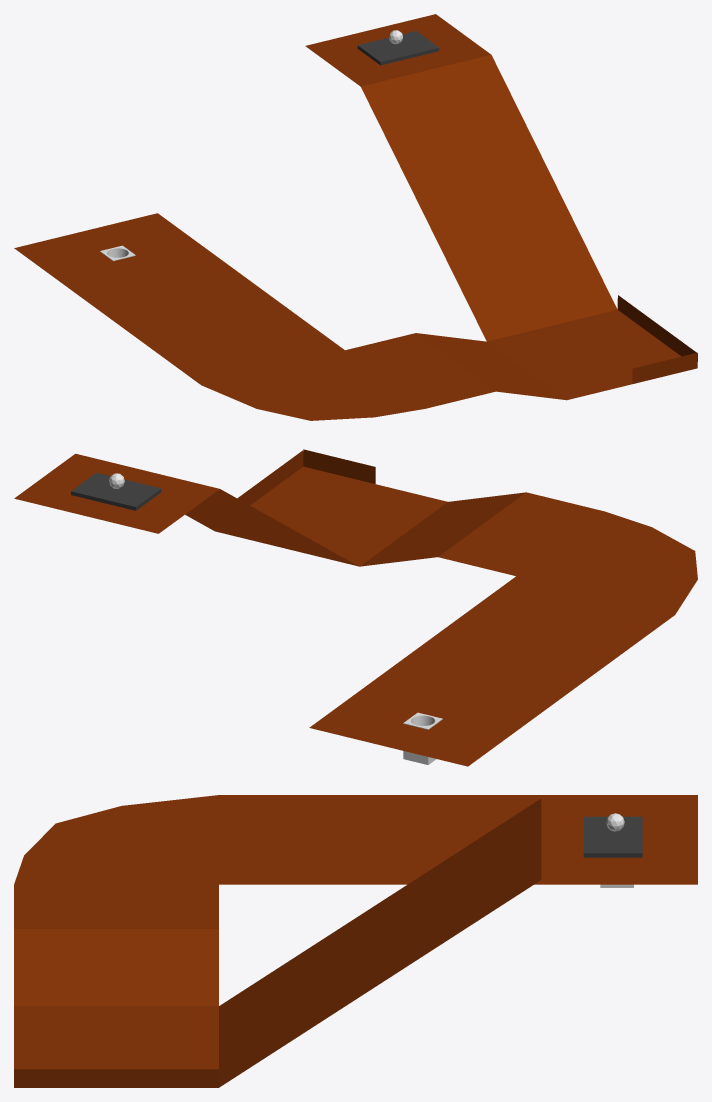
Rendered from boilerplate_level_14.glb.
3 views of the same model, one above another, from view 1: azimuth 30°, elevation 25°; view 2: azimuth 150°, elevation 25°; view 3: azimuth 270°, elevation 25° (orthographic). The views are drawn at different scales.
Visible parts, largest first — view 1: Plane, Start; view 2: Plane, Start, Cup; view 3: Plane, Start.
Part boxes in pixels (x1,y1,x2,y2): Plane: [14, 14, 697, 420]; Start: [357, 31, 439, 65]; Plane: [14, 449, 697, 766]; Start: [71, 472, 161, 510]; Cup: [403, 712, 442, 764]; Plane: [14, 795, 697, 1087]; Start: [583, 816, 642, 857].
Bounding box in the file's own units: 55.94 × 24.1 × 62.2.
